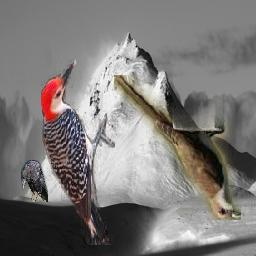Crow: (22, 160, 49, 202)
Cuckoo: (115, 76, 242, 221)
Woodpecker: (41, 59, 115, 245)
